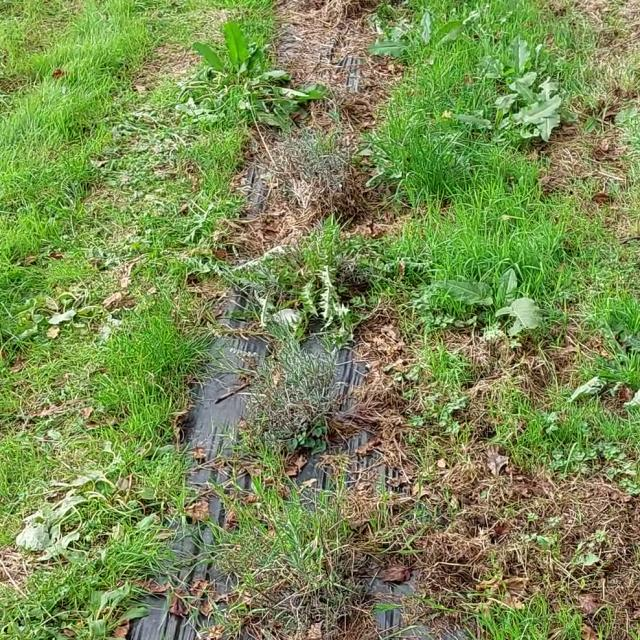organic waste: (175, 0, 326, 124), (422, 260, 560, 345), (27, 455, 144, 536), (370, 4, 470, 76), (442, 88, 532, 154), (481, 30, 558, 105), (492, 71, 573, 142), (30, 275, 114, 337)
